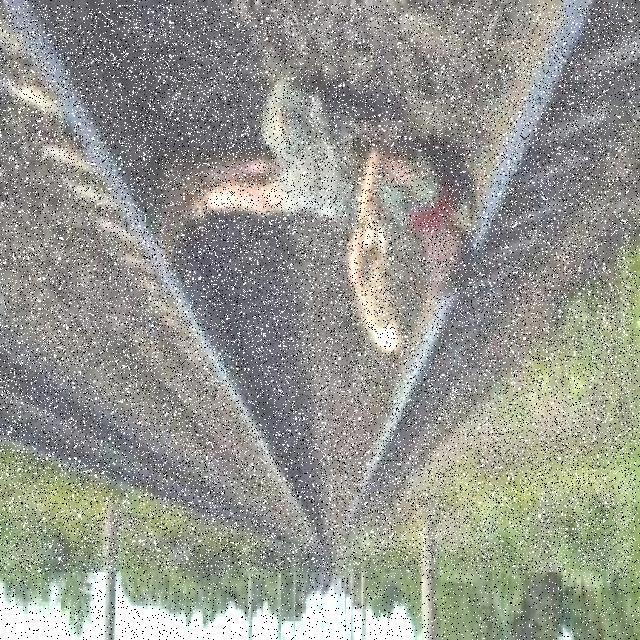danger: (138, 71, 477, 377)
rail: (0, 6, 636, 571)
